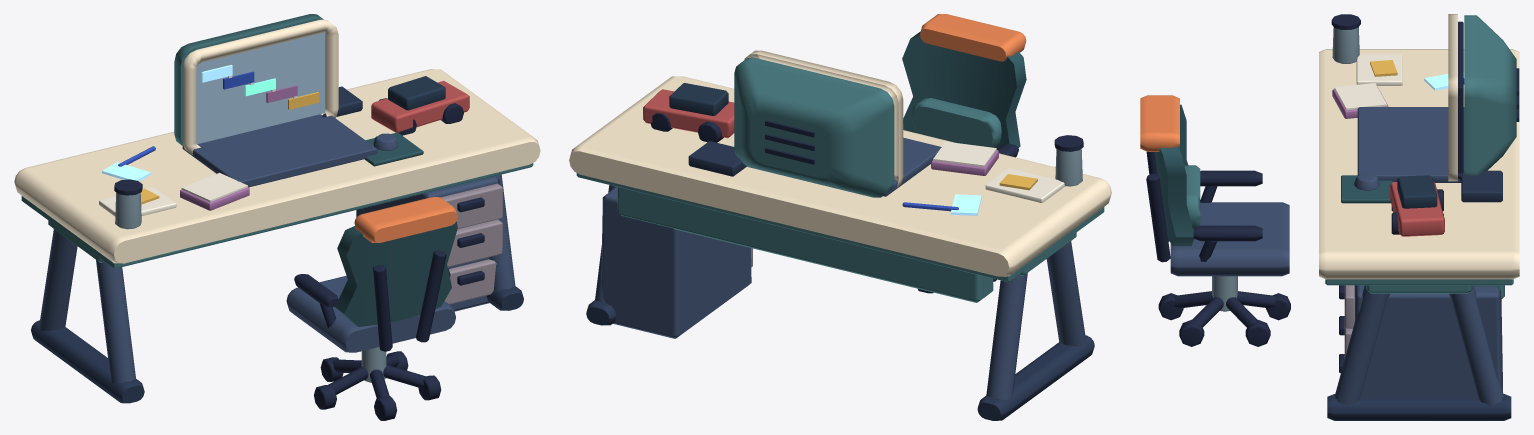
File: project_manager.glb
3 views of the same model, side by side, from view 1: azimuth 30°, elevation 25°; view 2: azimuth 150°, elevation 25°; view 3: azimuth 270°, elevation 25° (orthographic). The views are drawn at different scales.
Visible parts, largest first — view 1: project_manager; view 2: project_manager; view 3: project_manager.
Boxes of the visible parts, left/top/right/bottom form: project_manager: left=14, top=14, right=540, bottom=420; project_manager: left=569, top=14, right=1111, bottom=420; project_manager: left=1140, top=14, right=1519, bottom=420.
Bounding box in the file's own units: 2.4 × 1.48 × 1.82.
